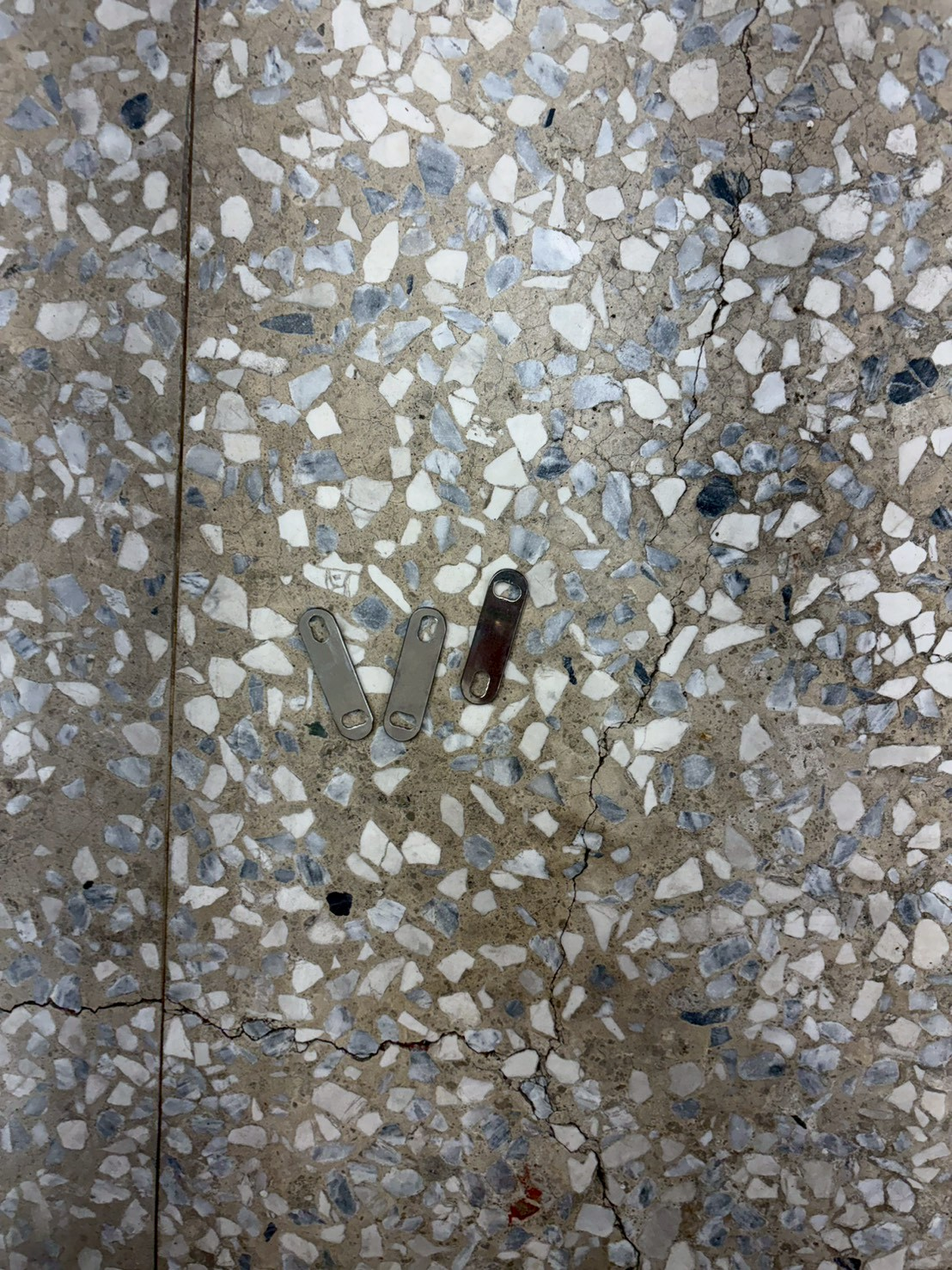Fe: (286, 615, 333, 757), (414, 598, 461, 740), (492, 562, 539, 704)
